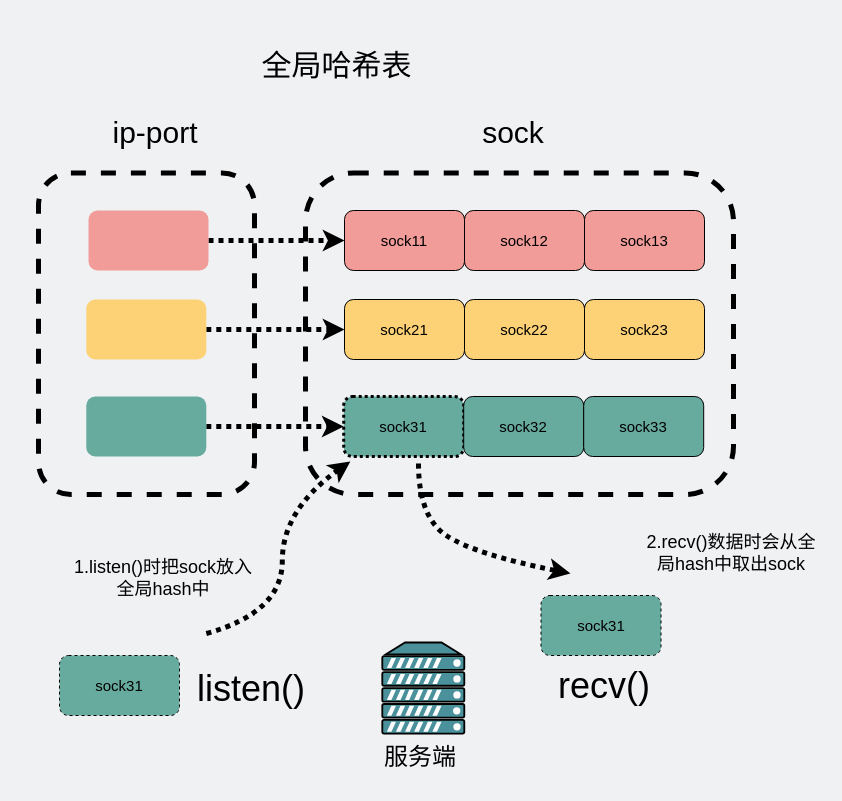
The diagram is 842 pixels wide and 801 high, and some of its shapes have lost their labels. Here are the shapes that lost their labels. From the top down, the centre of each, then its label:
(148,240): key1
(146,329): key2
(146,426): key3
